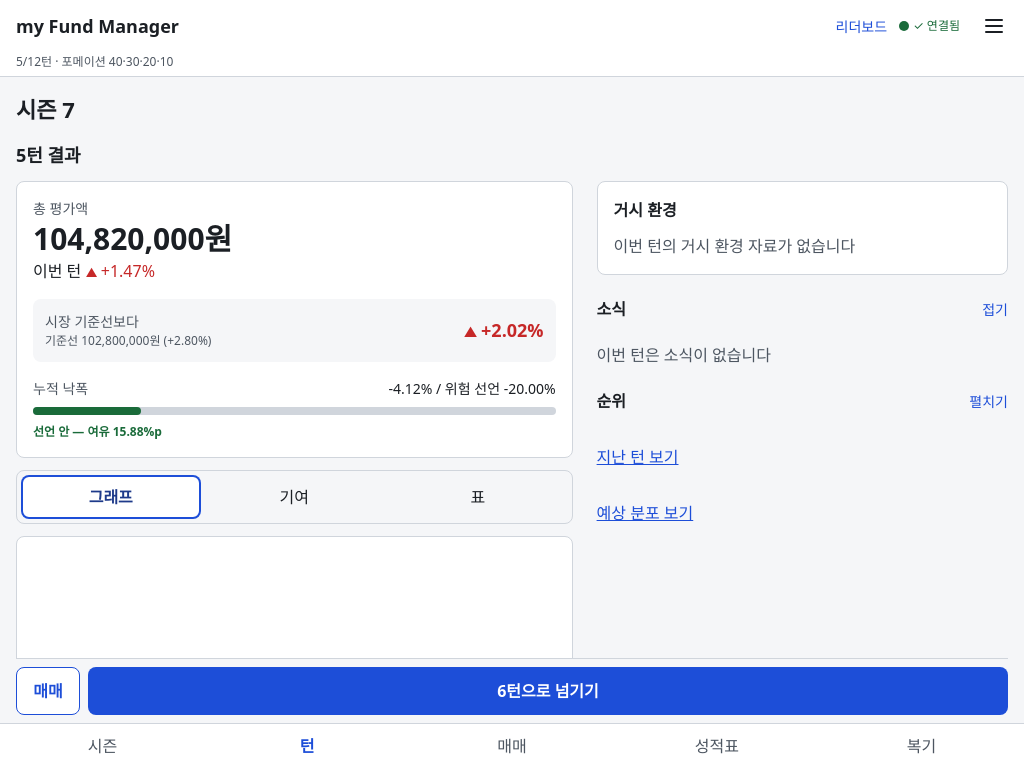
it: confirm step (A2, A12) › cancel button closes, sends nothing and returns focus to the opener
Expected: the text "5/12턴 · 포메이션 40·30·20·10" is shown, top-left (16, 53), bottom-right (173, 70)
What coordinates should you click on to do the following:
click the button named "메뉴"
I would click on:
 (994, 26)
Its box is top-left (972, 4), bottom-right (1016, 48).
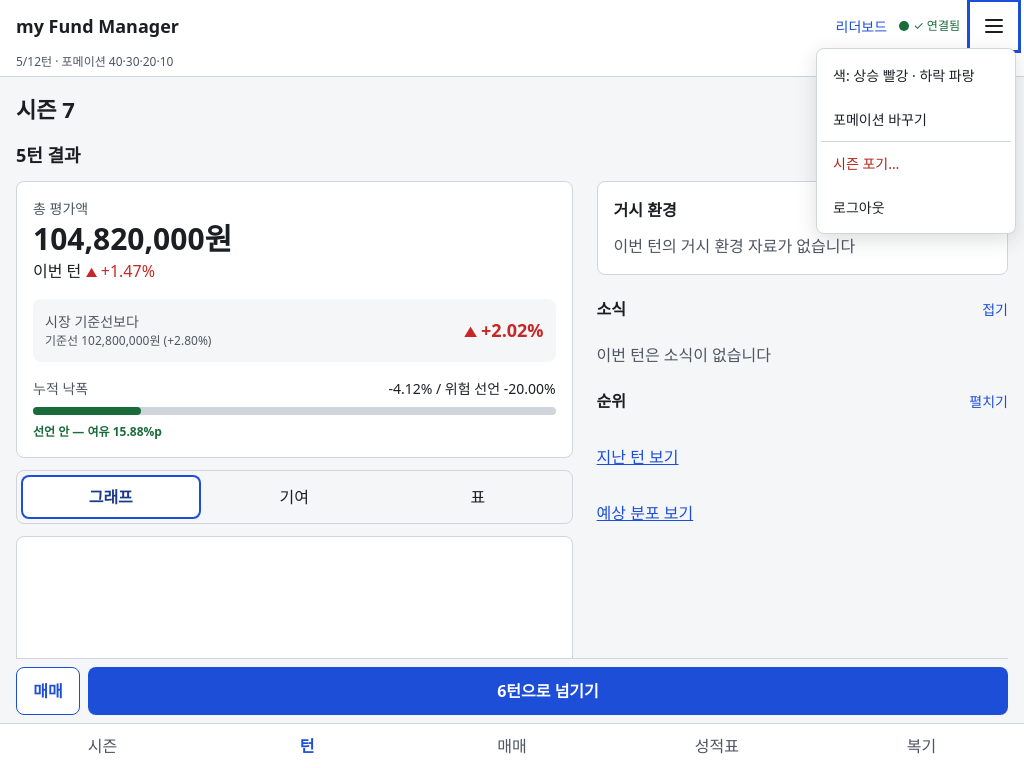
What coordinates should you click on to do the following:
click the button "시즌 포기…"
I would click on:
 (916, 163)
Its box is top-left (821, 141), bottom-right (1011, 185).
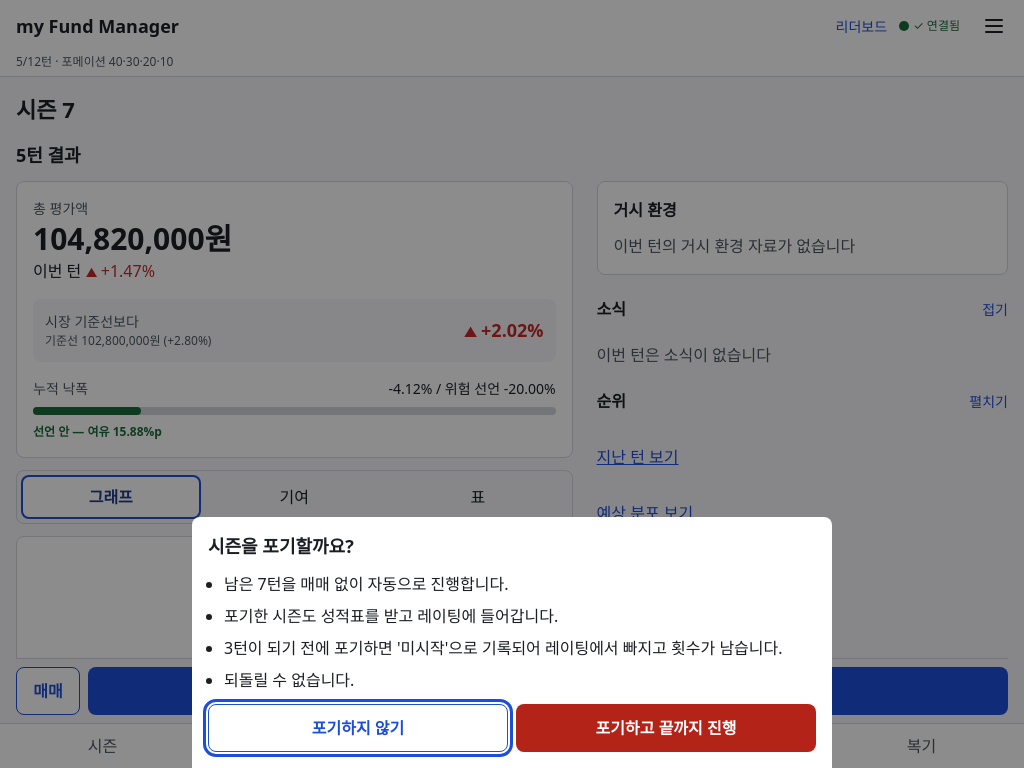
What coordinates should you click on to do the following:
click the button "포기하지 않기"
I would click on:
 (358, 728)
Its box is top-left (208, 704), bottom-right (508, 752).
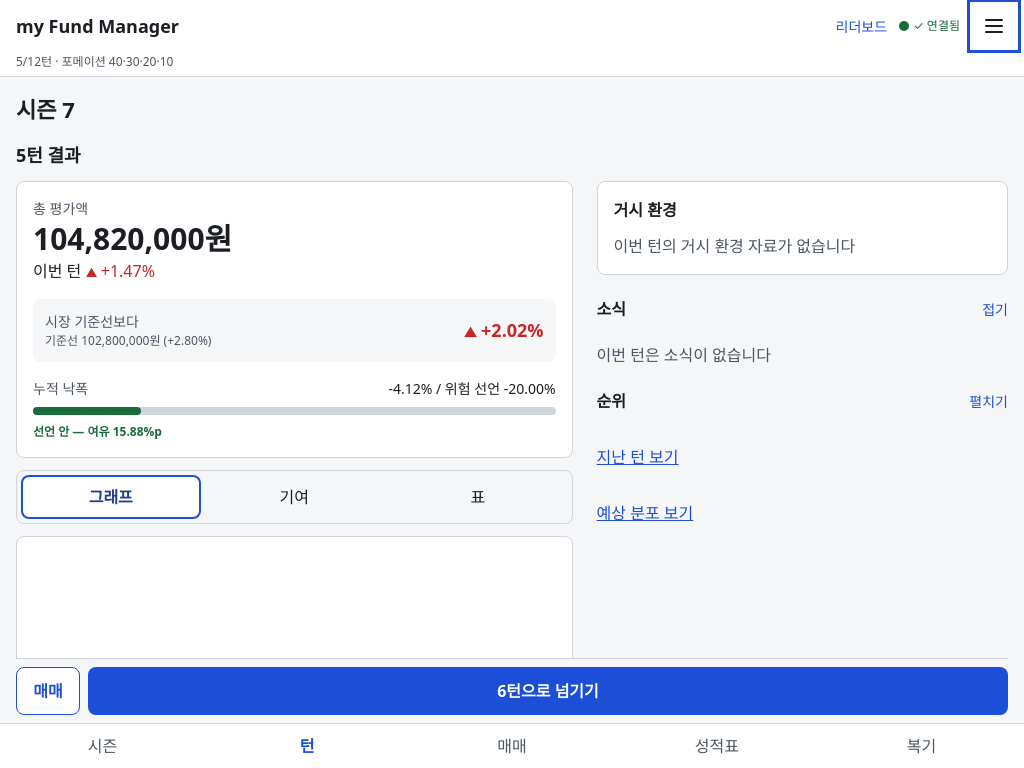
Expected: the dialog is gone
